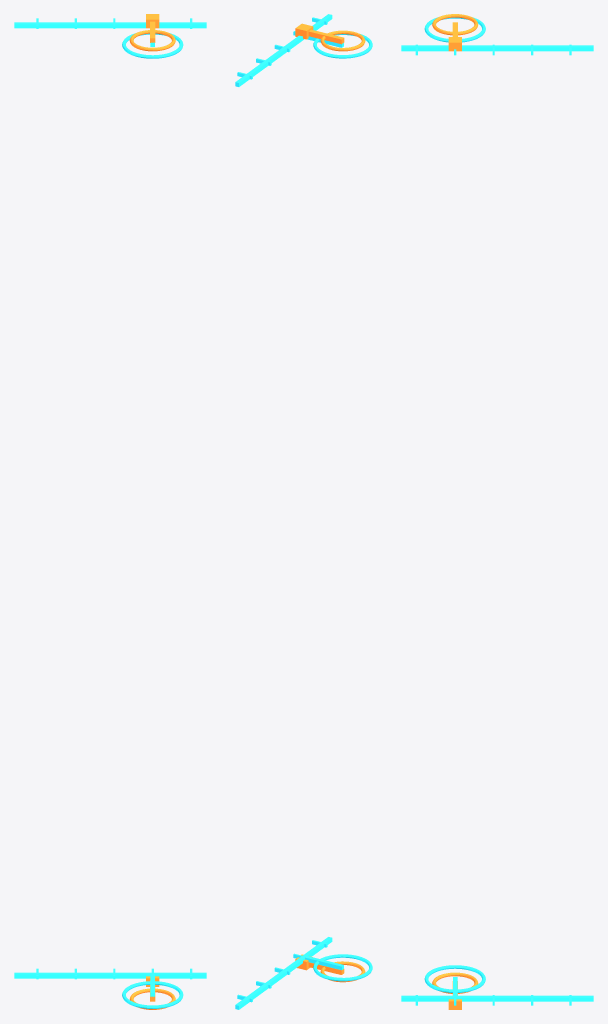
The model's file is phantom-a10c-suspension-schematic.glb.
3 renders of one model, left to right at view 1: azimuth 90°, elevation 25°; view 2: azimuth 150°, elevation 25°; view 3: azimuth 270°, elevation 25°, orthographic. The views are drawn at different scales.
Parts seen in each view (by area): view 1: VTX_SCHEMATIC_FR_GUIDE, VTX_SCHEMATIC_FL_GUIDE, VTX_SCHEMATIC_FR_DATUM; view 2: VTX_SCHEMATIC_FR_GUIDE, VTX_SCHEMATIC_FL_GUIDE, VTX_SCHEMATIC_FR_DATUM, VTX_SCHEMATIC_FL_DATUM, VTX_SCHEMATIC_FL_CARRIER_MARK; view 3: VTX_SCHEMATIC_FR_GUIDE, VTX_SCHEMATIC_FL_GUIDE, VTX_SCHEMATIC_FR_DATUM.
Part boxes in pixels (left/top/right/bottom): VTX_SCHEMATIC_FR_GUIDE: left=14, top=972, right=206, bottom=978; VTX_SCHEMATIC_FL_GUIDE: left=14, top=22, right=206, bottom=28; VTX_SCHEMATIC_FR_DATUM: left=122, top=981, right=183, bottom=1008; VTX_SCHEMATIC_FR_GUIDE: left=235, top=937, right=332, bottom=1009; VTX_SCHEMATIC_FL_GUIDE: left=235, top=14, right=332, bottom=86; VTX_SCHEMATIC_FR_DATUM: left=313, top=954, right=372, bottom=981; VTX_SCHEMATIC_FL_DATUM: left=313, top=34, right=372, bottom=58; VTX_SCHEMATIC_FL_CARRIER_MARK: left=320, top=30, right=365, bottom=51; VTX_SCHEMATIC_FR_GUIDE: left=401, top=995, right=593, bottom=1001; VTX_SCHEMATIC_FL_GUIDE: left=401, top=45, right=593, bottom=51; VTX_SCHEMATIC_FR_DATUM: left=424, top=965, right=485, bottom=992.
Bounding box in the file's own units: 0.2325 × 2.78 × 0.5.
